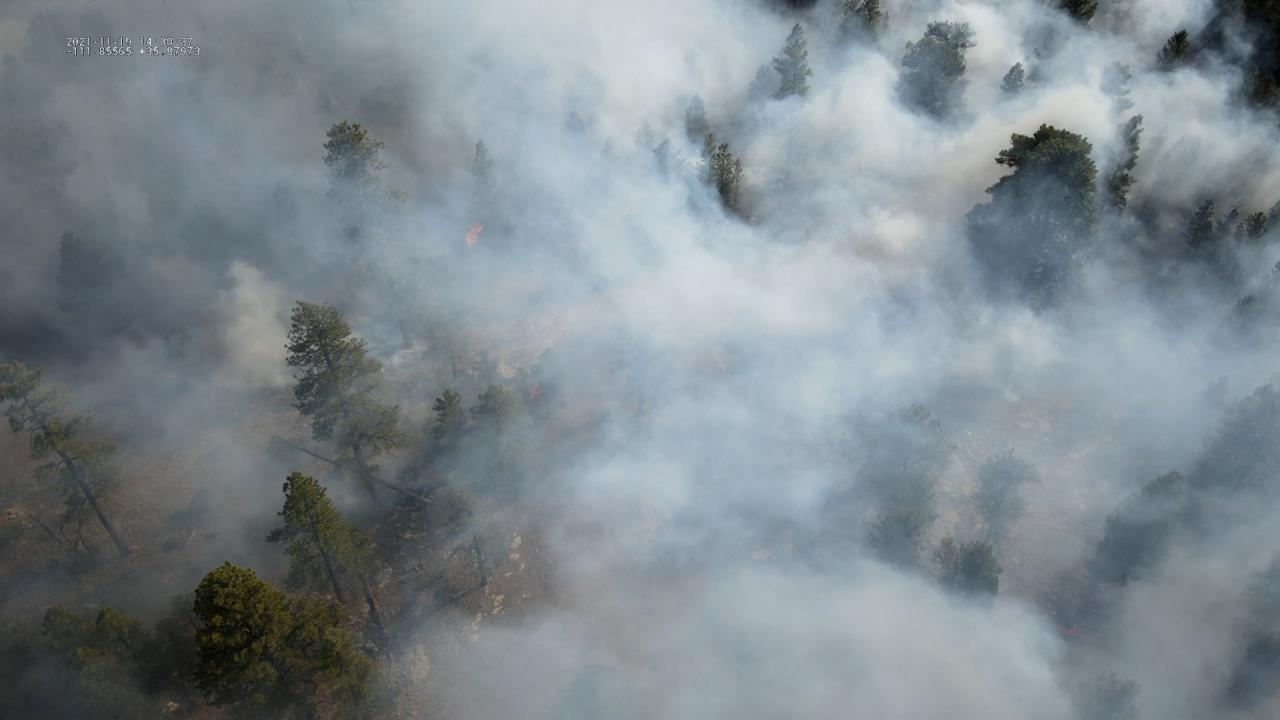fire: (463, 221, 485, 248), (528, 378, 542, 401)
smoke: (0, 0, 1280, 720)
